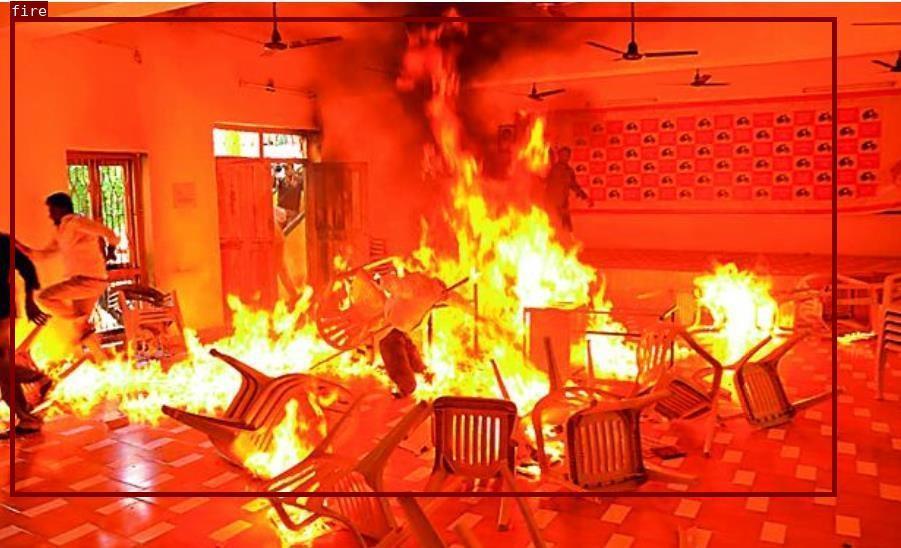fire: (9, 17, 836, 495)
